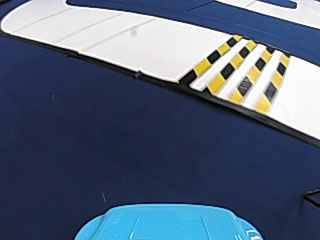bump: (178, 33, 287, 105)
